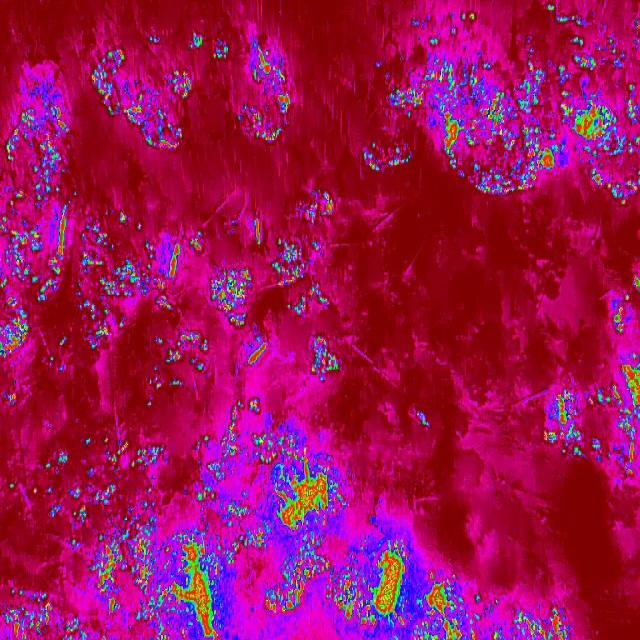fire: (358, 1, 640, 208), (71, 188, 347, 392), (168, 399, 351, 640), (0, 412, 171, 640), (0, 94, 70, 362), (84, 33, 208, 156), (539, 344, 640, 475), (352, 524, 458, 640), (218, 37, 293, 148), (458, 589, 570, 640), (607, 269, 640, 335), (2, 386, 20, 408)
